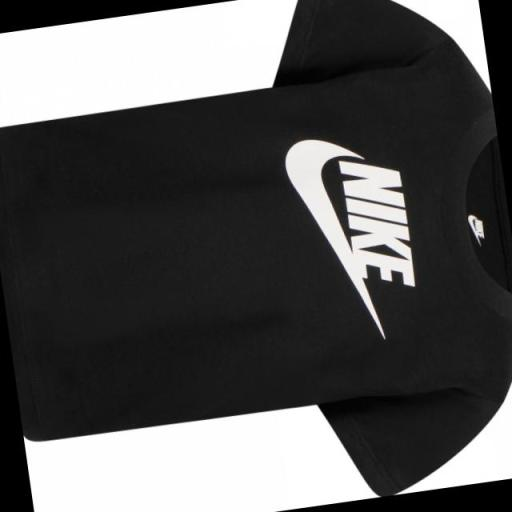Nike: (279, 132, 374, 325), (335, 151, 416, 301)
